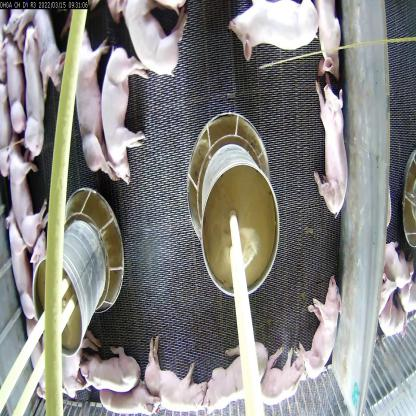Pig: (226, 0, 323, 66), (196, 335, 269, 410), (122, 0, 192, 77), (68, 15, 101, 178), (13, 30, 54, 160), (102, 51, 140, 181), (318, 85, 352, 230), (301, 266, 334, 388), (152, 346, 210, 415), (7, 157, 43, 261), (33, 3, 69, 94), (3, 222, 32, 324), (262, 360, 306, 415), (90, 348, 139, 394), (119, 376, 159, 415)
